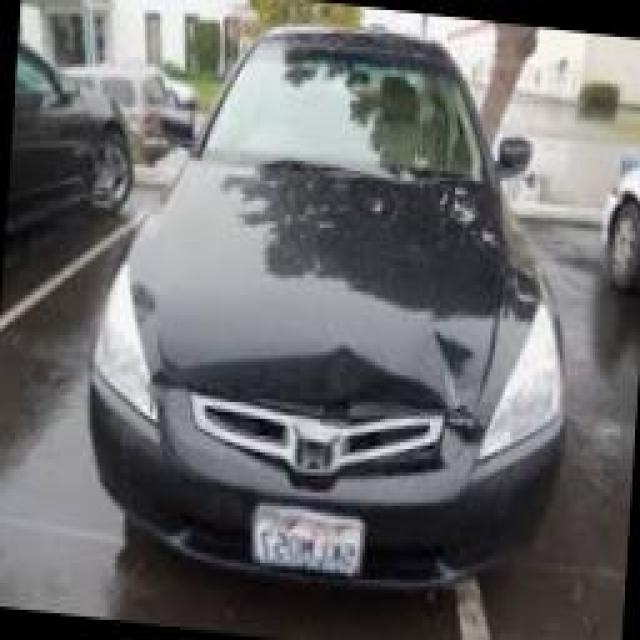Bonnet: (125, 201, 502, 422)
